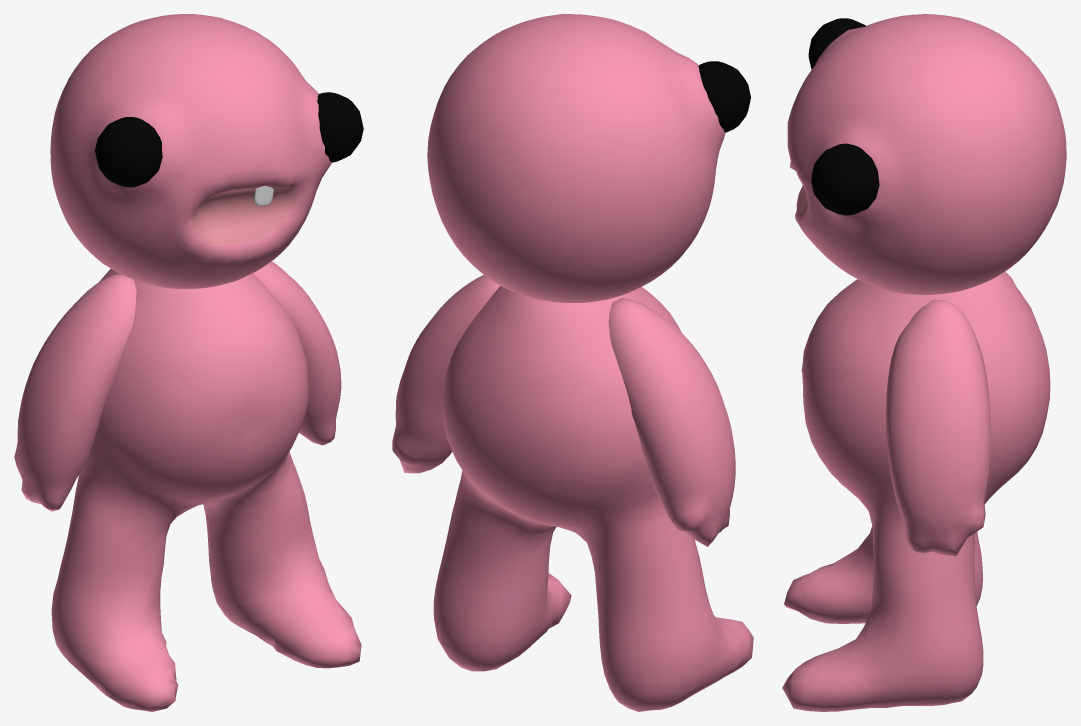
Rendered from Bob-transformed.glb.
The picture shows the model from 3 angles, left to right: view 1: azimuth 30°, elevation 25°; view 2: azimuth 150°, elevation 25°; view 3: azimuth 270°, elevation 25°; orthographic projection. The views are drawn at different scales.
Visible parts, largest first — view 1: Head_Cube, Eyes_Sphere; view 2: Head_Cube, Eyes_Sphere; view 3: Head_Cube, Eyes_Sphere.
Boxes of the visible parts, <box> form: Head_Cube: <box>14,14,361,711</box>; Eyes_Sphere: <box>95,92,363,187</box>; Head_Cube: <box>392,14,753,711</box>; Eyes_Sphere: <box>698,61,750,132</box>; Head_Cube: <box>782,14,1066,711</box>; Eyes_Sphere: <box>808,18,879,215</box>.
Bounding box in the file's own units: 0.7868 × 1.52 × 0.6182.
